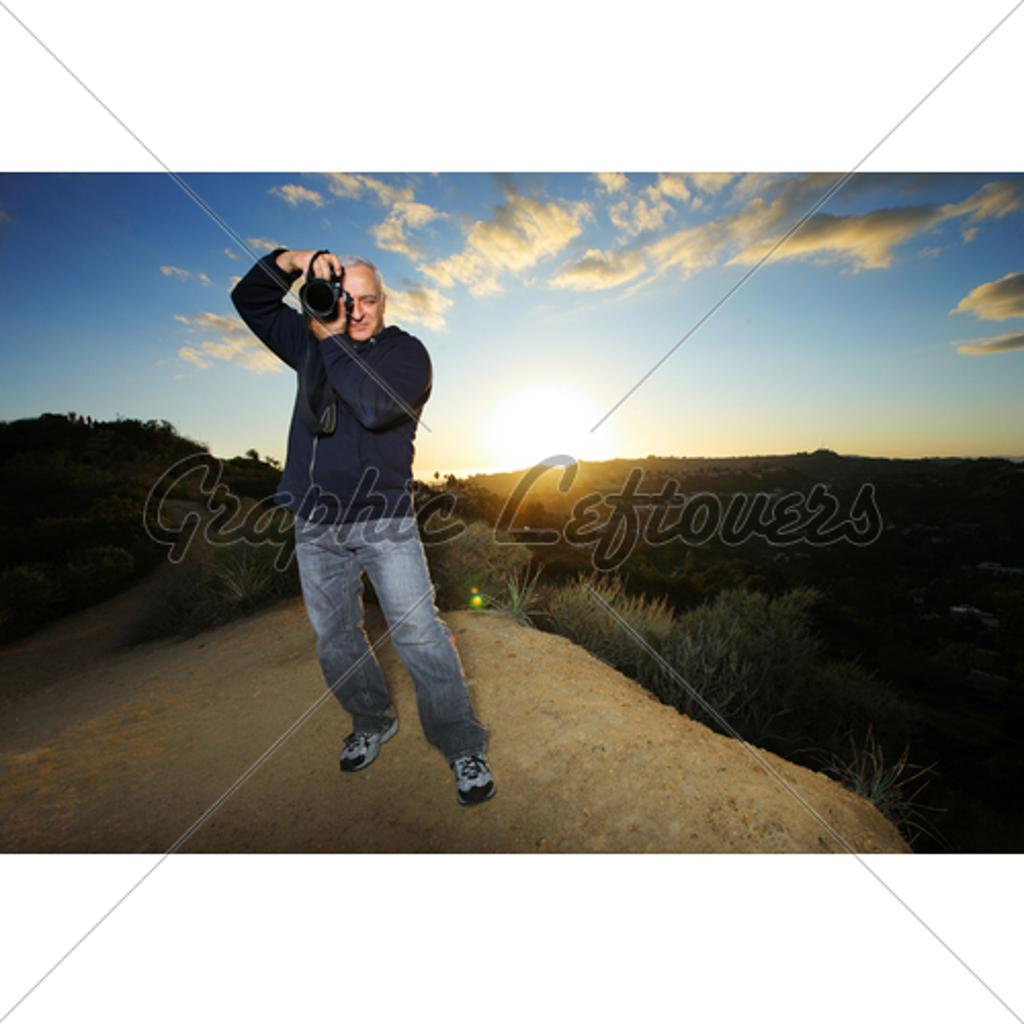face: (332, 264, 384, 342)
